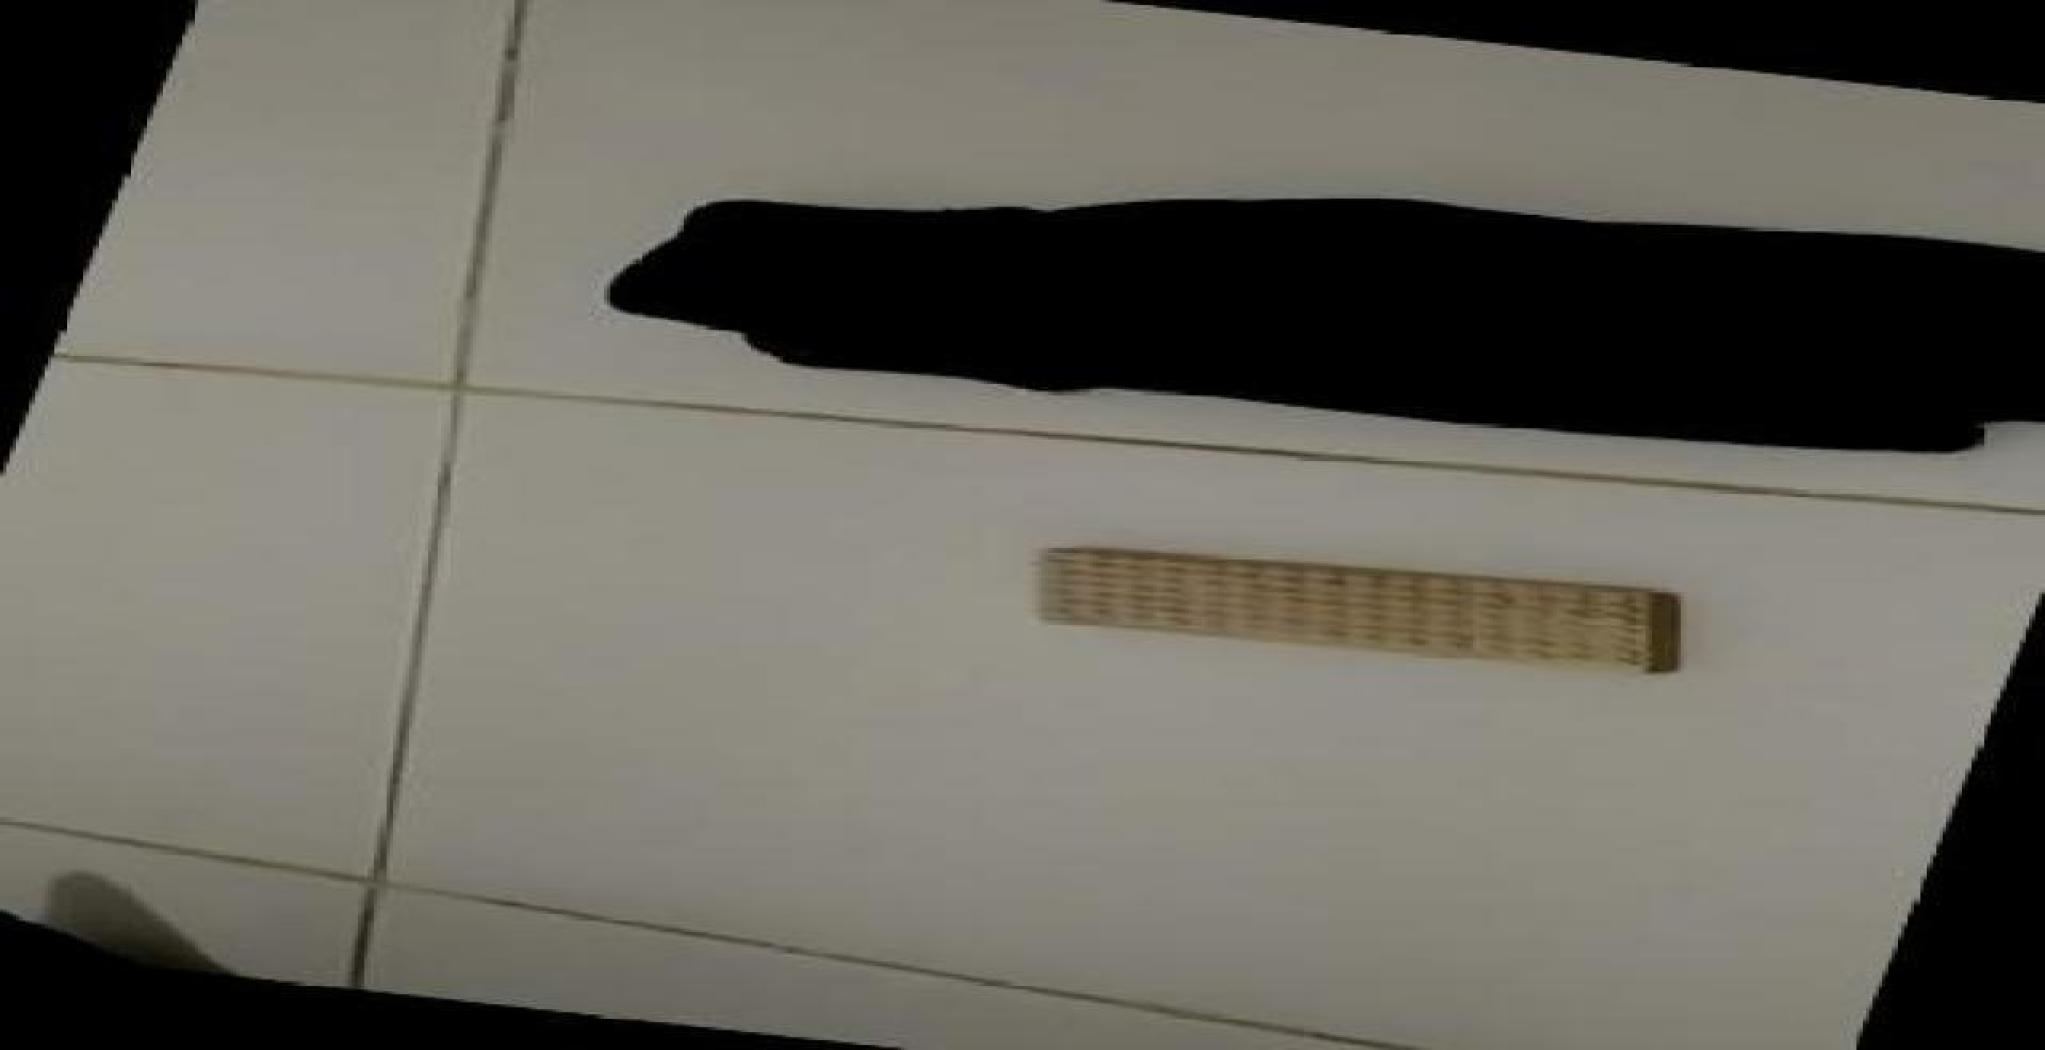gloved: (601, 190, 2042, 456)
